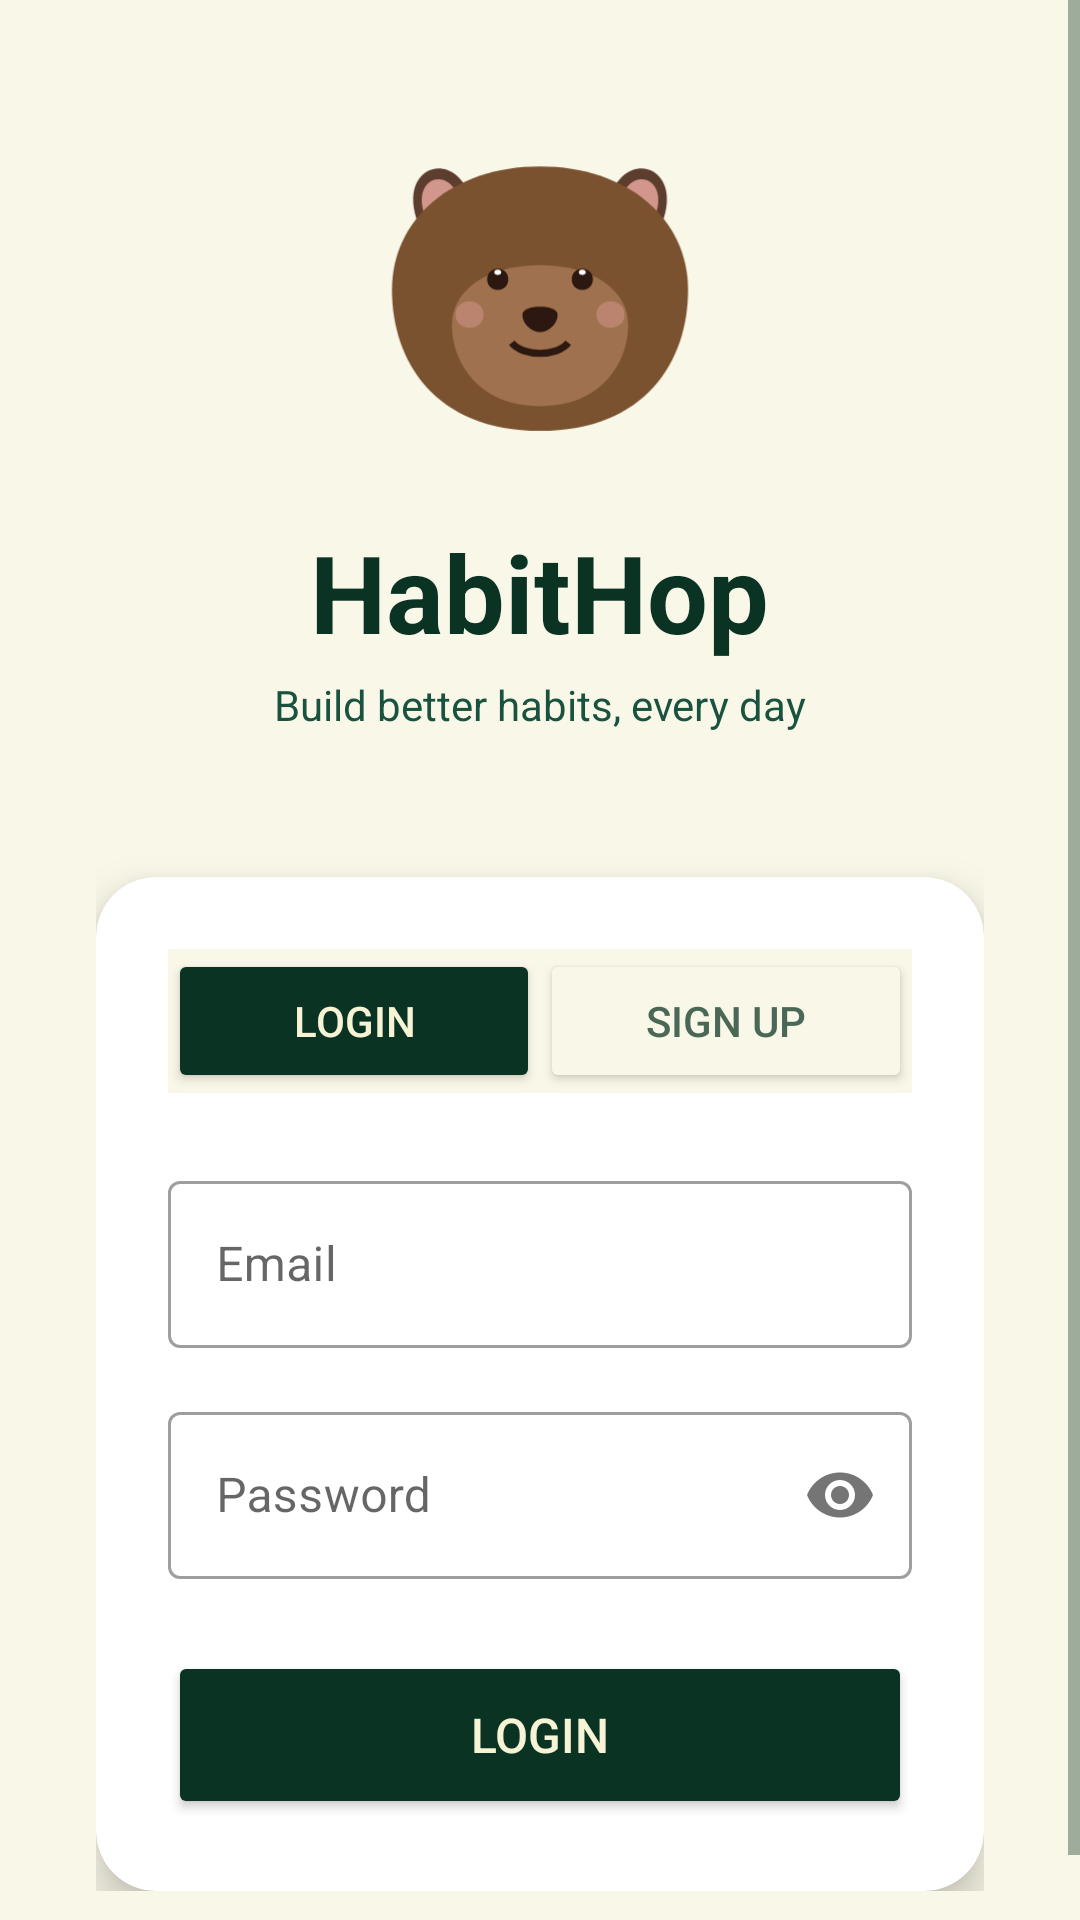

Screen size 1080x1920. Icon name, then its box in pixels as (x1, y1, x2, y2):
bear: (391, 166, 689, 431)
